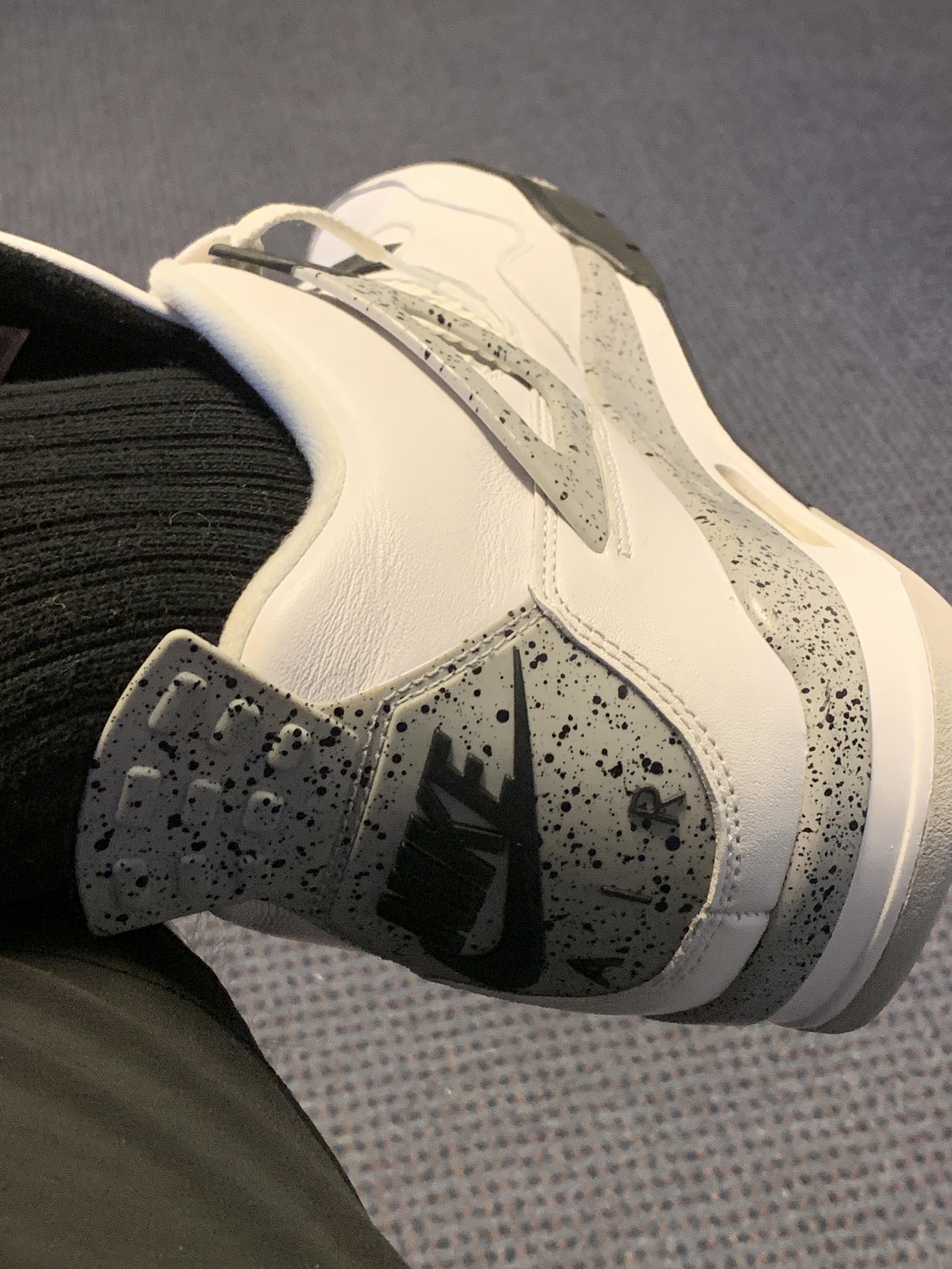sneaker: (0, 149, 952, 1035)
